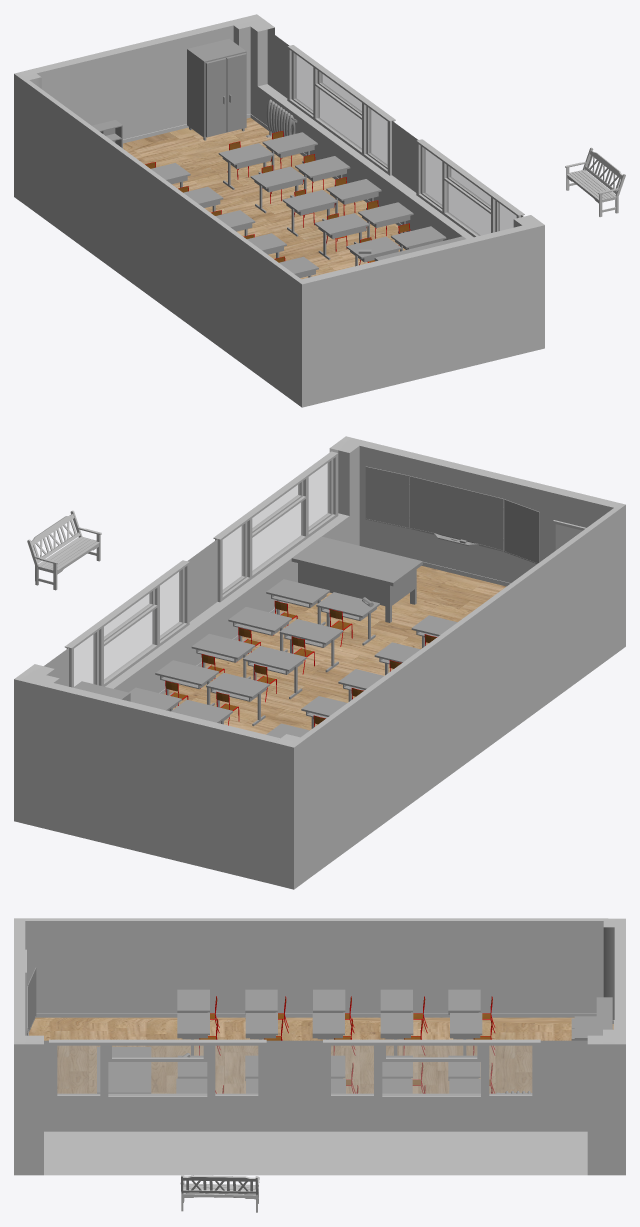
File: Salle_V4.fbx
3 renders of one model, top to bottom at view 1: azimuth 30°, elevation 25°; view 2: azimuth 150°, elevation 25°; view 3: azimuth 270°, elevation 25°, orthographic. The views are drawn at different scales.
Parts seen in each view (by area): view 1: Salle, Armoire, Banc1, Bureau6, Bureau8, Bureau7, Bureau5, Bureau, Bureau3, Bureau1, Bureau2, Bureau9 (+3 smaller); view 2: Salle, Tableau, Bureau_Prof, Banc1, Bureau6, Bureau7, Bureau8, Bureau4, Bureau1, Bureau3, Bureau2, Bureau9 (+6 smaller); view 3: Salle, Bureau_Prof, Banc1, Bureau11, Bureau10, Bureau14, Bureau12, Bureau13, Armoire, Bureau15, Bureau16, Bureau19 (+9 smaller).
Boxes of the visible parts, x1,y1,x2,y2 form: Salle: (14,14,544,407); Armoire: (187,39,246,140); Banc1: (565,147,625,216); Bureau6: (250,166,305,213); Bureau8: (314,213,369,259); Bureau7: (282,190,337,236); Bureau5: (218,143,273,189); Bureau: (262,132,317,170); Bureau3: (358,202,413,237); Bureau1: (295,156,350,193); Bureau2: (326,179,381,213); Bureau9: (346,236,401,266); Salle: (14,436,625,889); Tableau: (365,466,539,563); Bureau_Prof: (291,536,422,622); Banc1: (27,510,101,590); Bureau6: (206,673,269,726); Bureau7: (243,646,306,699); Bureau8: (279,619,343,672); Bureau4: (266,579,329,625); Bureau1: (155,660,219,705); Bureau3: (228,607,291,652); Bureau2: (191,634,255,678); Bureau9: (316,592,379,645); Salle: (14,918,625,1175); Bureau_Prof: (97,1047,151,1093); Banc1: (180,1174,259,1212); Bureau11: (380,1013,413,1055); Bureau10: (450,1013,482,1055); Bureau14: (177,1013,209,1055); Bureau12: (312,1013,344,1039); Bureau13: (245,1013,277,1039); Armoire: (571,1016,611,1040); Bureau15: (448,989,480,1039); Bureau16: (380,989,412,1039); Bureau19: (177,989,209,1039).
Size of what is drawn, in the model's own units: 1341 by 390 by 1652.
